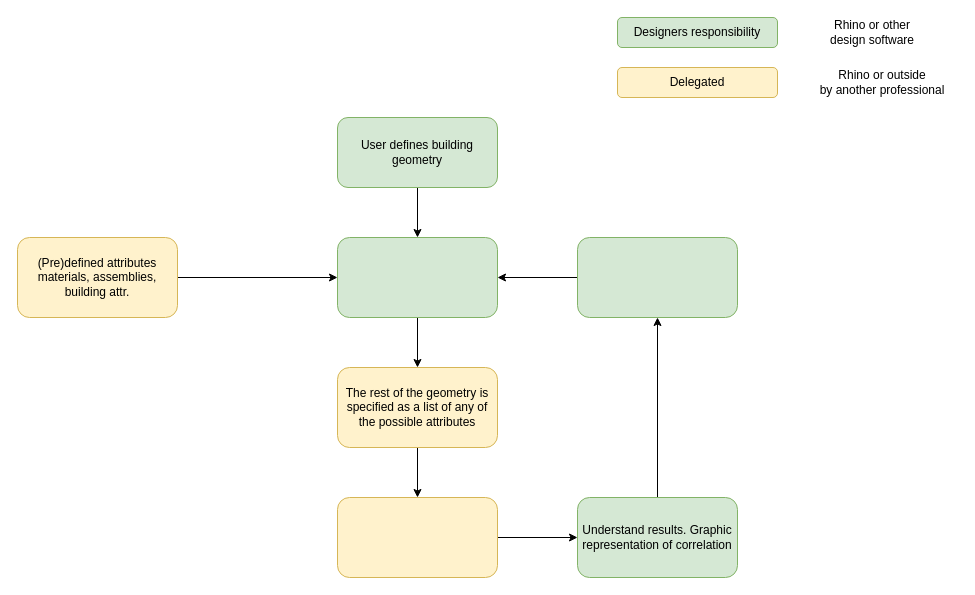
Some shapes in this 975 by 595 pixel diagram are drawn without their labels. The shapes that lost their labels are listed below. From the top down, each one's centre as x and y in pixels, then its label:
At (x=417, y=277): "User (under)specifies some of the building geometry with attributes".
At (x=657, y=277): "User further specifies attributes with high index of correlation.".
At (x=417, y=537): "MC Simulation of LCA with underspecified attributes.".
